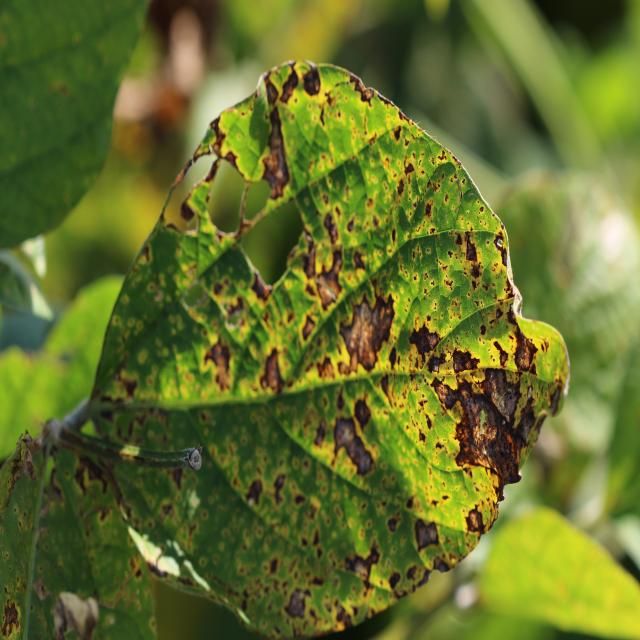Bacterial_Blight: (450, 386, 515, 471), (344, 276, 400, 364), (328, 395, 378, 480), (0, 432, 35, 524), (259, 105, 291, 202), (52, 589, 100, 639), (72, 450, 115, 502), (203, 335, 233, 392), (345, 544, 380, 587), (259, 348, 285, 396), (439, 345, 480, 373), (512, 329, 536, 372), (277, 64, 300, 105), (315, 274, 340, 309), (249, 265, 273, 301), (208, 112, 230, 150), (432, 377, 458, 409), (414, 517, 439, 550), (1, 598, 21, 639), (113, 370, 139, 400), (284, 587, 307, 619), (223, 294, 246, 325), (245, 478, 263, 508), (492, 339, 510, 369), (323, 210, 338, 244), (466, 508, 486, 533), (316, 356, 335, 380), (187, 445, 204, 470), (465, 233, 479, 263), (273, 474, 287, 504), (301, 313, 316, 341), (357, 85, 375, 107), (313, 419, 327, 447), (352, 249, 366, 272), (428, 354, 443, 374), (403, 157, 415, 178), (268, 557, 279, 575), (424, 200, 434, 219), (494, 235, 505, 252), (479, 324, 487, 336)
Soybean: (0, 61, 570, 638)
